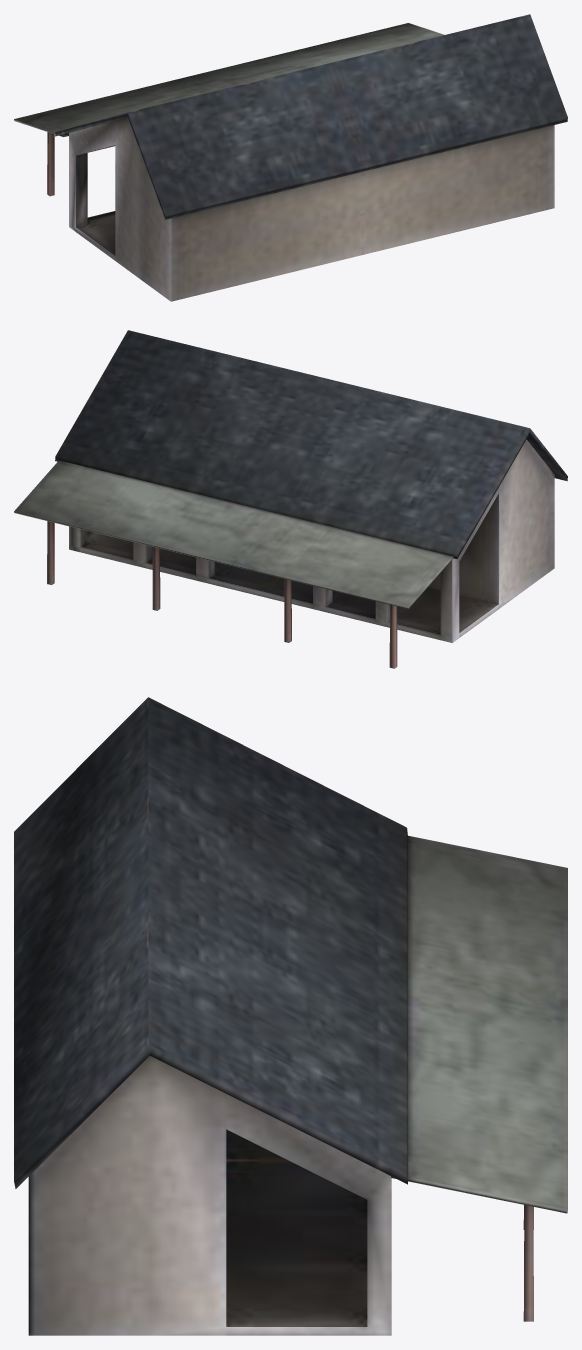
File: Marketplace.glb
The picture shows the model from 3 angles, top to bottom: view 1: azimuth 30°, elevation 25°; view 2: azimuth 150°, elevation 25°; view 3: azimuth 270°, elevation 25°; orthographic projection. The views are drawn at different scales.
Visible parts, largest first — view 1: 2_low; view 2: 2_low; view 3: 2_low.
Part boxes in pixels (box(x1,y1,x2,y2)): 2_low: box(14, 14, 567, 301); 2_low: box(14, 330, 567, 668); 2_low: box(14, 697, 567, 1335).
Bounding box in the file's own units: 5.42 × 2.16 × 3.63.
Materials: 1 (1 with a texture image).
